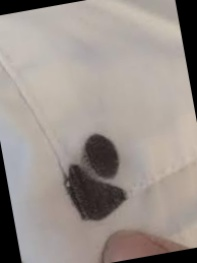ink: (67, 161, 130, 227), (85, 133, 122, 179)
